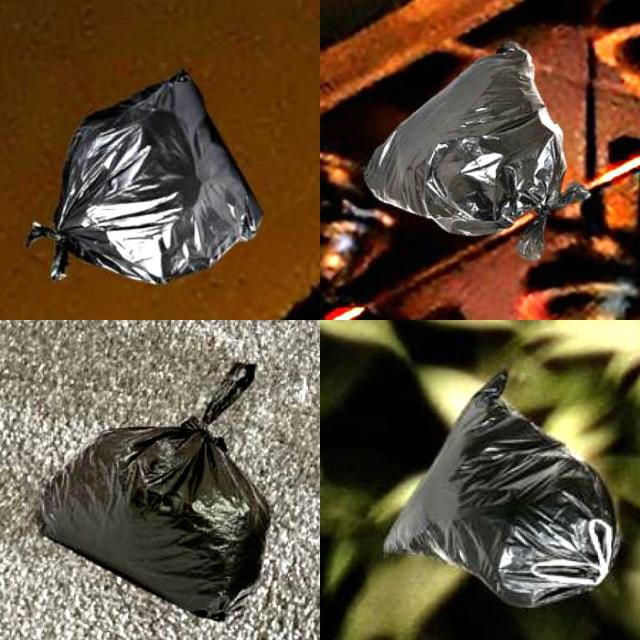Single-layer Plastic: (40, 362, 270, 620), (385, 371, 619, 608), (29, 71, 262, 284), (365, 42, 589, 259)
